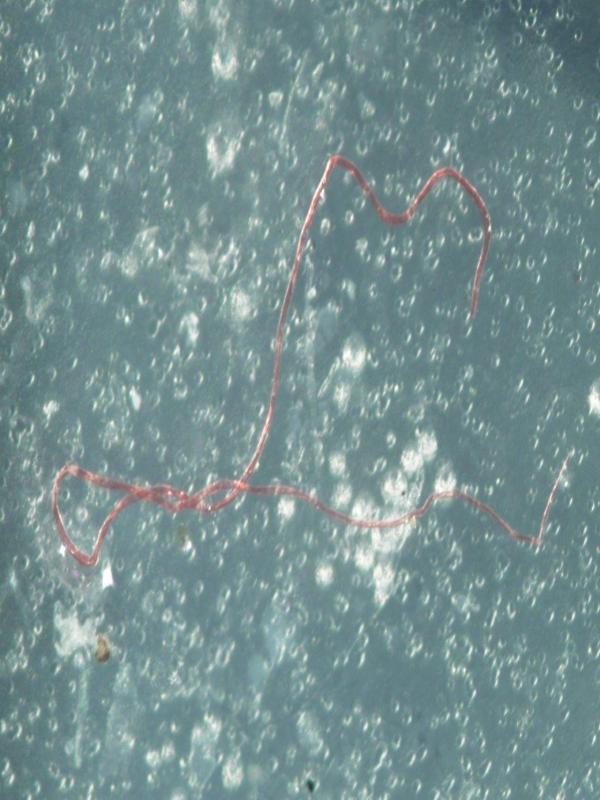microplastic: (50, 151, 572, 571)
